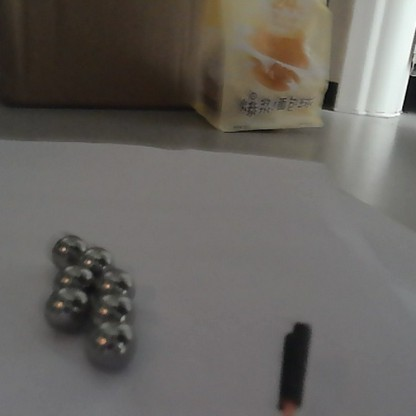ironball: (84, 320, 134, 369), (41, 287, 87, 332), (89, 293, 130, 328), (54, 263, 97, 292), (49, 229, 85, 263), (95, 268, 134, 298), (79, 245, 114, 270)
